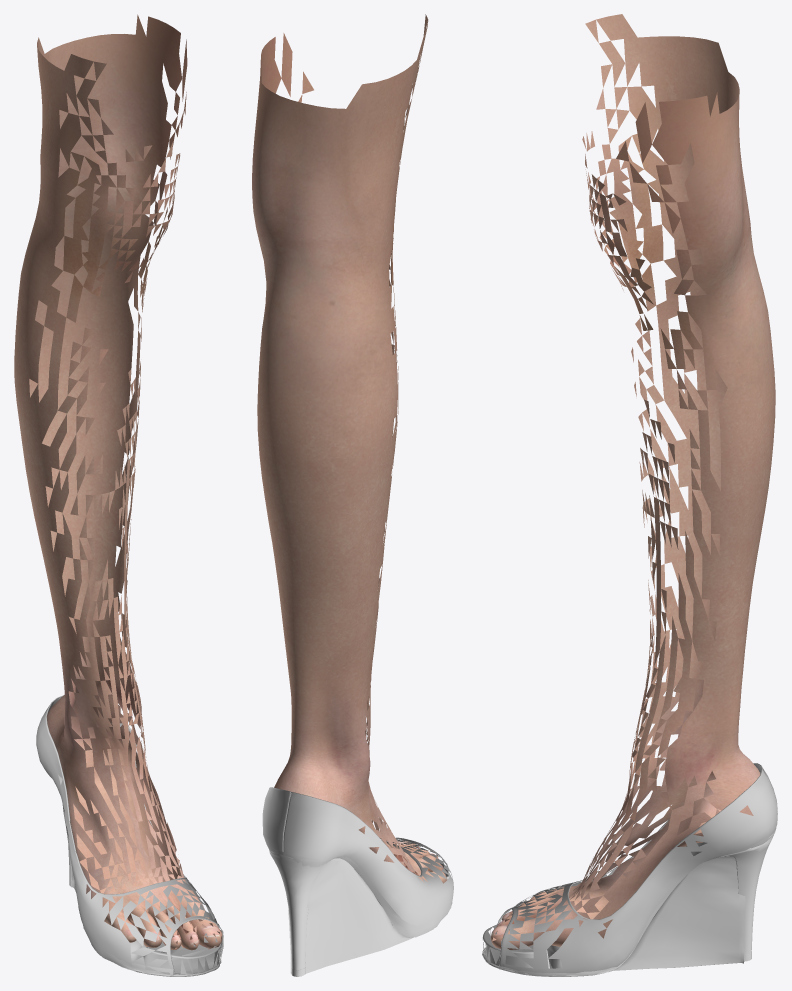
File: PieDerecho.obj
3 renders of one model, left to right at view 1: azimuth 30°, elevation 25°; view 2: azimuth 150°, elevation 25°; view 3: azimuth 270°, elevation 25°, orthographic. The views are drawn at different scales.
Visible parts, largest first — view 1: body, shoes_r_Shape; view 2: body, shoes_r_Shape; view 3: body, shoes_r_Shape.
Boxes of the visible parts, left/top/right/bottom form: body: left=14, top=14, right=222, bottom=950; shoes_r_Shape: left=36, top=695, right=223, bottom=976; body: left=252, top=14, right=447, bottom=883; shoes_r_Shape: left=262, top=787, right=453, bottom=976; body: left=490, top=14, right=775, bottom=949; shoes_r_Shape: left=482, top=763, right=777, bottom=976.
Size of the model in its own units: 0.1164 by 0.7408 by 0.2172.
Materials: 2 (1 with a texture image).
